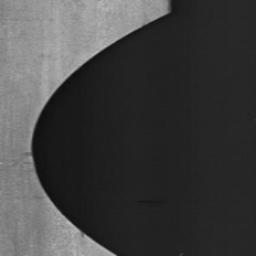Crescent gap: (31, 14, 168, 256)
